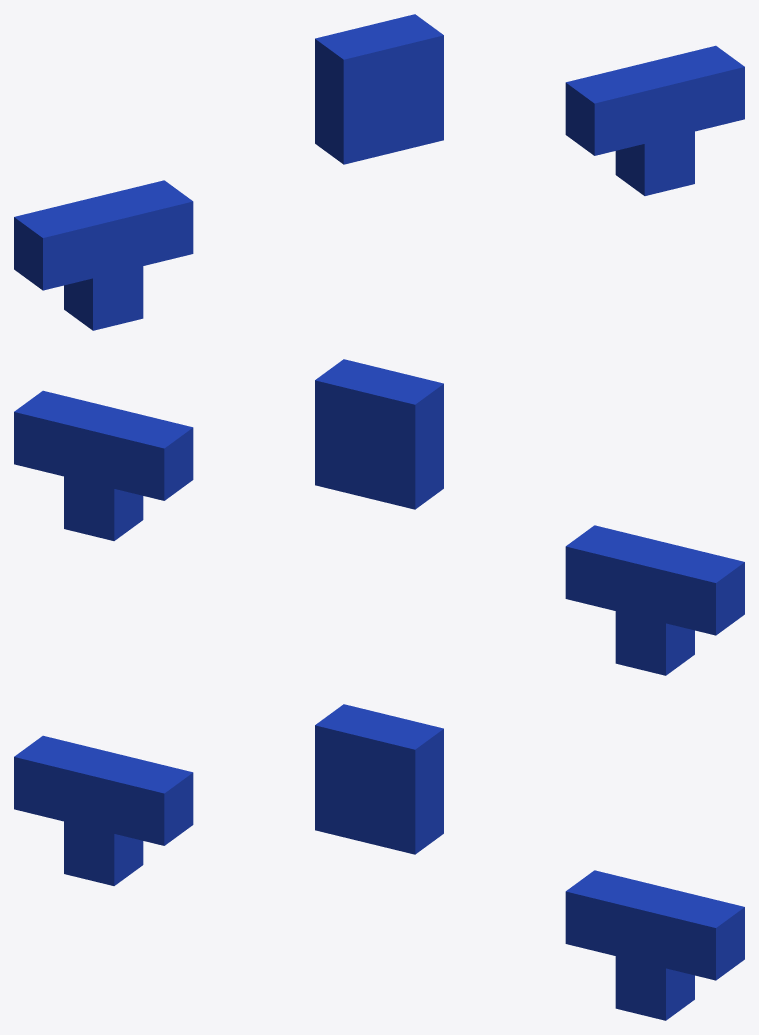
The picture shows the model from 3 angles, top to bottom: view 1: azimuth 30°, elevation 25°; view 2: azimuth 150°, elevation 25°; view 3: azimuth 330°, elevation 25°; orthographic projection.
Visible parts, largest first — view 1: 73.1; view 2: 73.1; view 3: 73.1.
Part boxes in pixels (box(x1,y1,x2,y2)): 73.1: box(14, 14, 744, 330); 73.1: box(14, 359, 744, 675); 73.1: box(14, 704, 744, 1020).
Bounding box in the file's own units: 140 × 40 × 10.
1 material, 1 textured.
